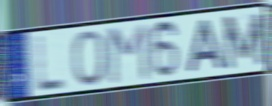6: (149, 18, 184, 82)
A: (186, 17, 228, 75)
L: (35, 33, 68, 94)
M: (221, 11, 267, 72), (108, 21, 151, 86)
O: (70, 28, 109, 88)
